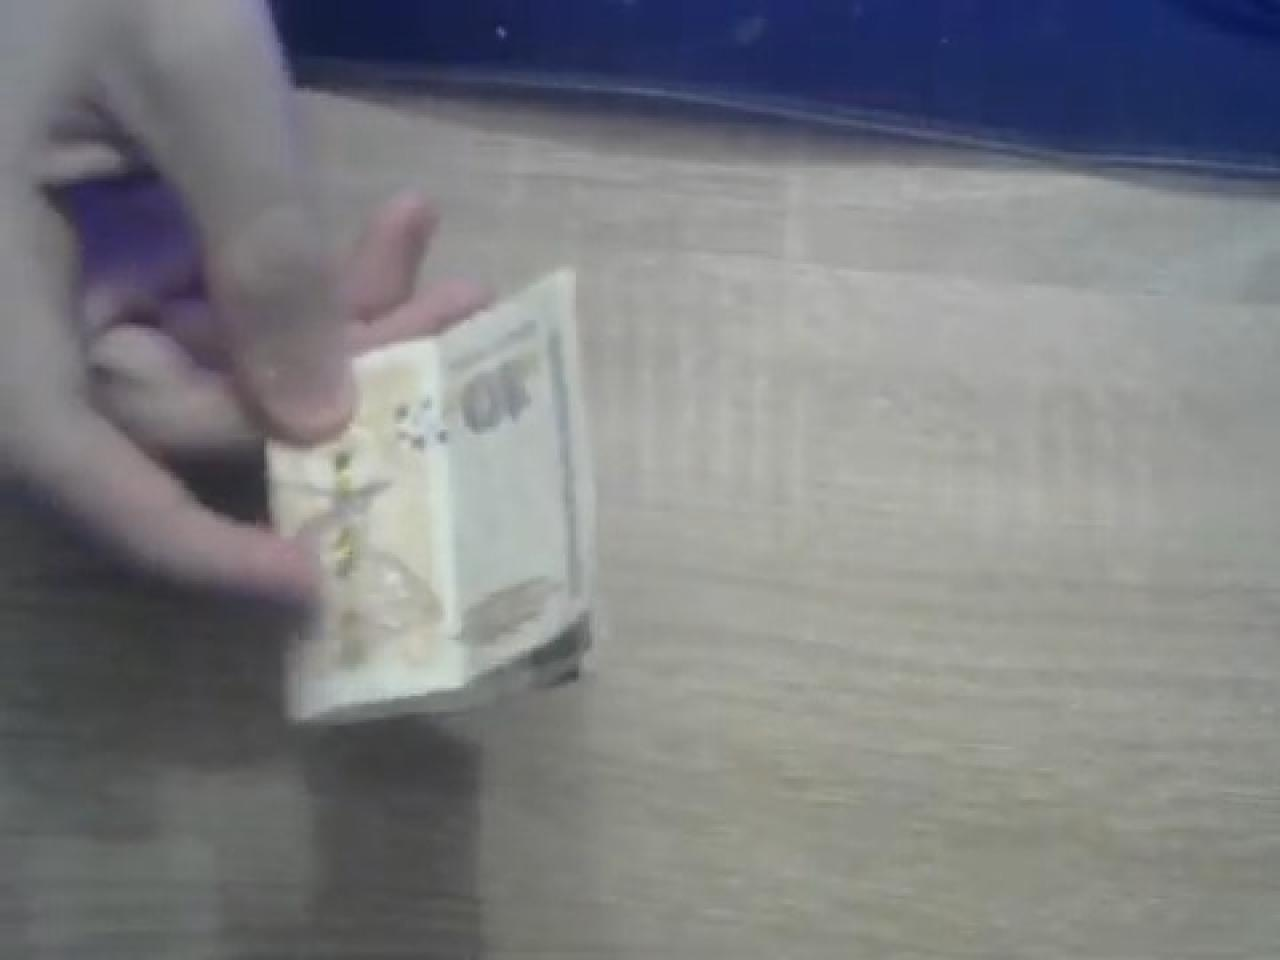10leva: (259, 264, 601, 728)
